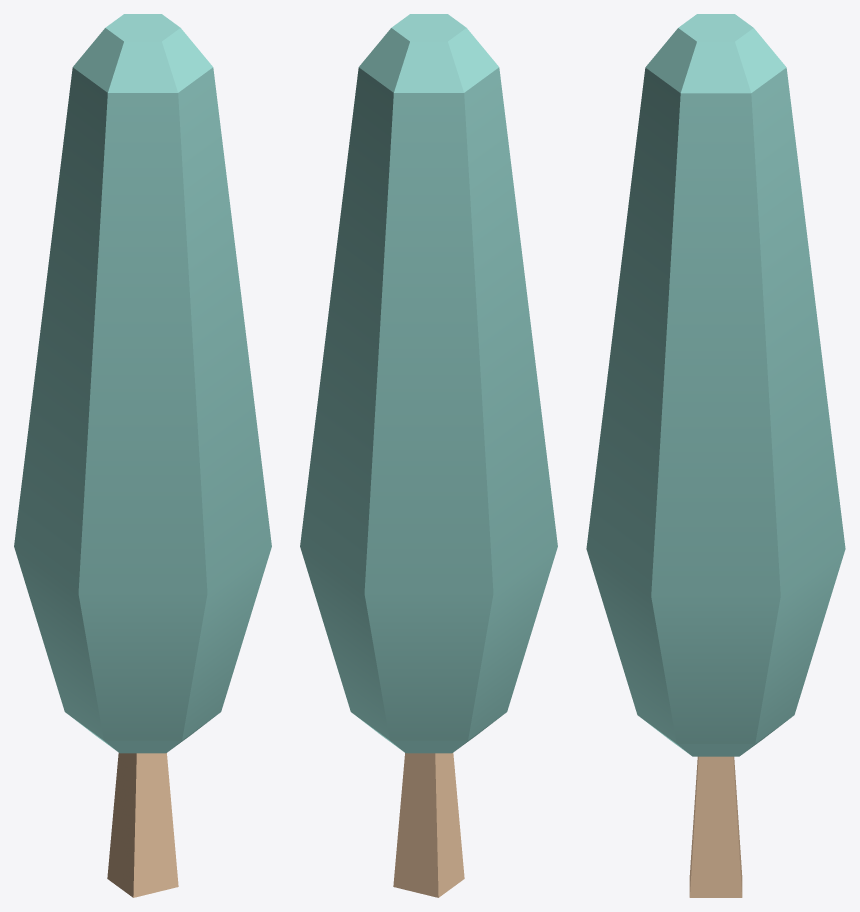
File: tree_tall.gltf
The picture shows the model from 3 angles, left to right: view 1: azimuth 30°, elevation 25°; view 2: azimuth 150°, elevation 25°; view 3: azimuth 270°, elevation 25°; orthographic projection.
Visible parts, largest first — view 1: tree_tall; view 2: tree_tall; view 3: tree_tall.
Part boxes in pixels (x1,y1,x2,y2): tree_tall: (14, 14, 271, 897); tree_tall: (300, 14, 557, 897); tree_tall: (586, 14, 845, 897).
Size of the model in its own units: 0.3996 by 1.69 by 0.4614.
